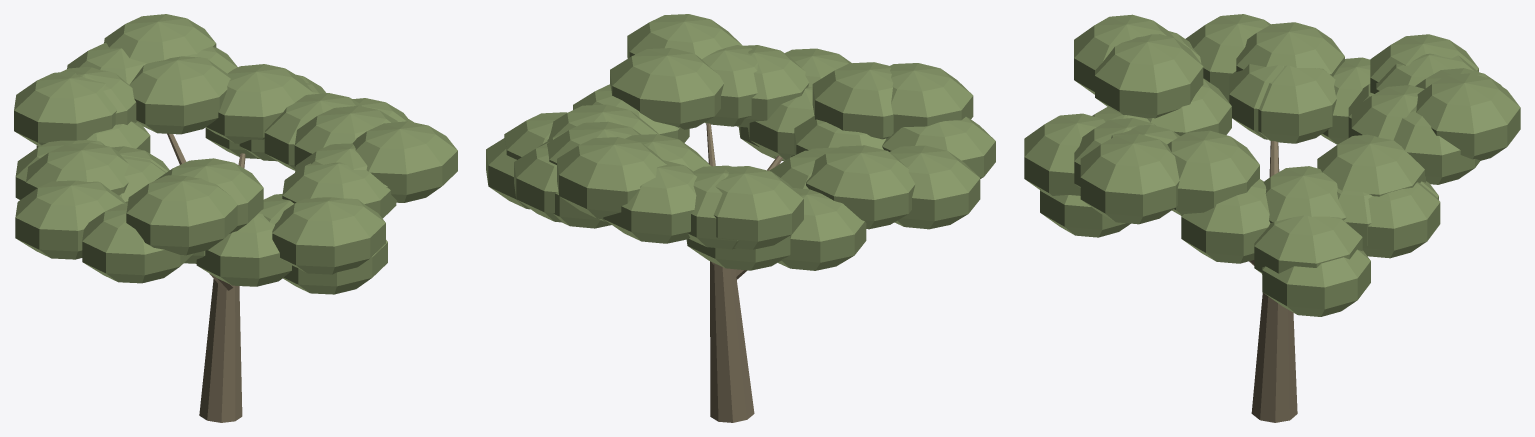
The model's file is olive.glb.
3 renders of one model, left to right at view 1: azimuth 30°, elevation 25°; view 2: azimuth 150°, elevation 25°; view 3: azimuth 270°, elevation 25°, orthographic. The views are drawn at different scales.
Parts seen in each view (by area): view 1: olive; view 2: olive; view 3: olive.
Part boxes in pixels (box(x1,y1,x2,y2)): olive: box(14, 14, 457, 422); olive: box(486, 14, 995, 422); olive: box(1024, 14, 1520, 422).
Size of the model in its own units: 5.73 by 4.06 by 5.31.
